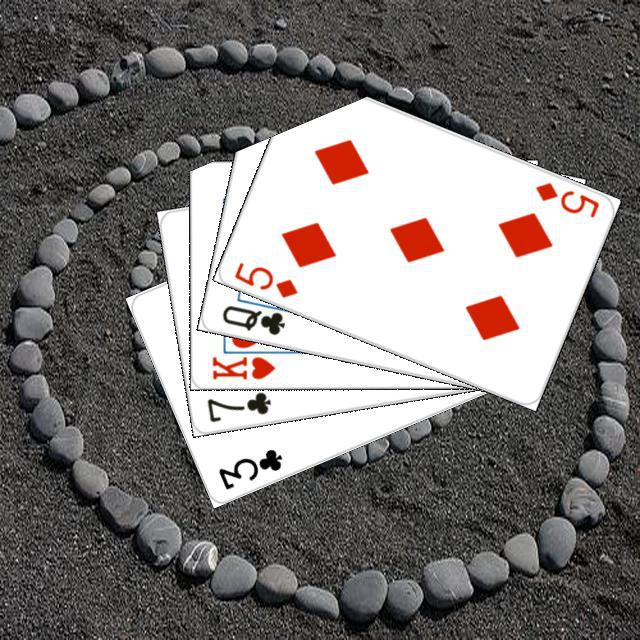3c: (213, 444, 285, 492)
5d: (229, 257, 300, 300), (530, 177, 601, 220)
7c: (202, 387, 273, 424)
Kh: (207, 343, 283, 381)
Qc: (217, 291, 296, 337)
